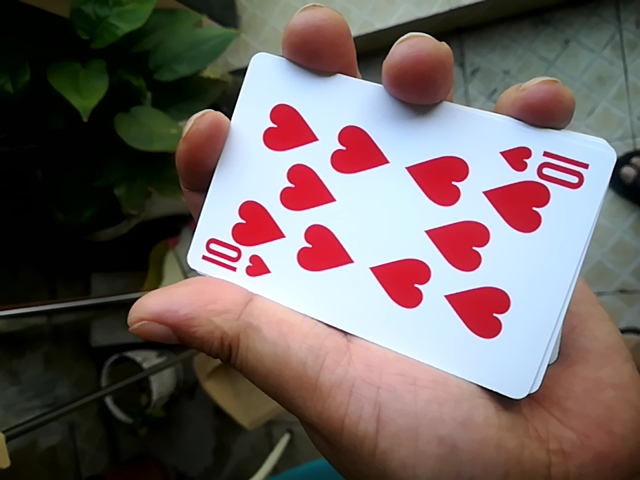hx 10: (174, 48, 611, 384)
